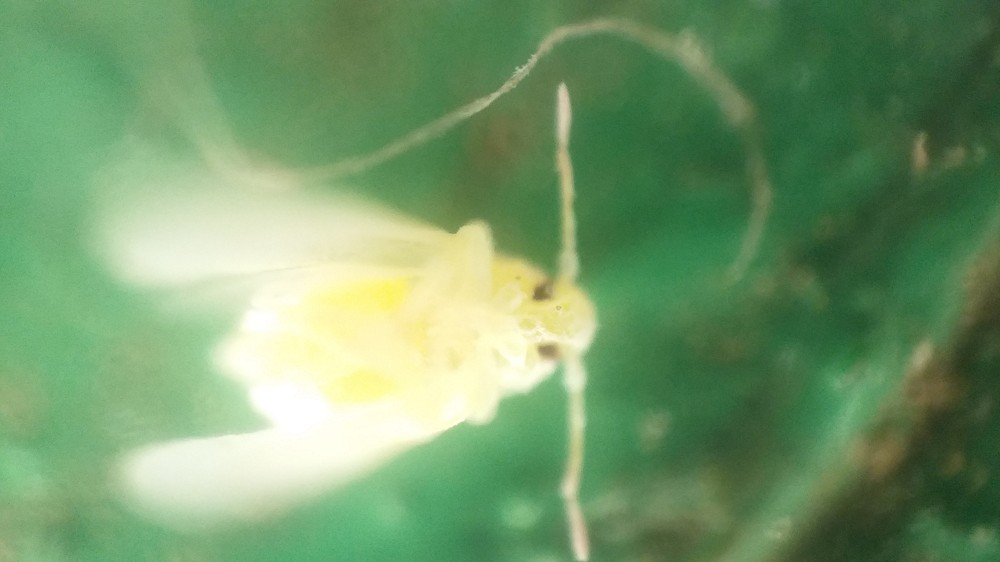Mosca Blanca: (93, 86, 629, 556)
